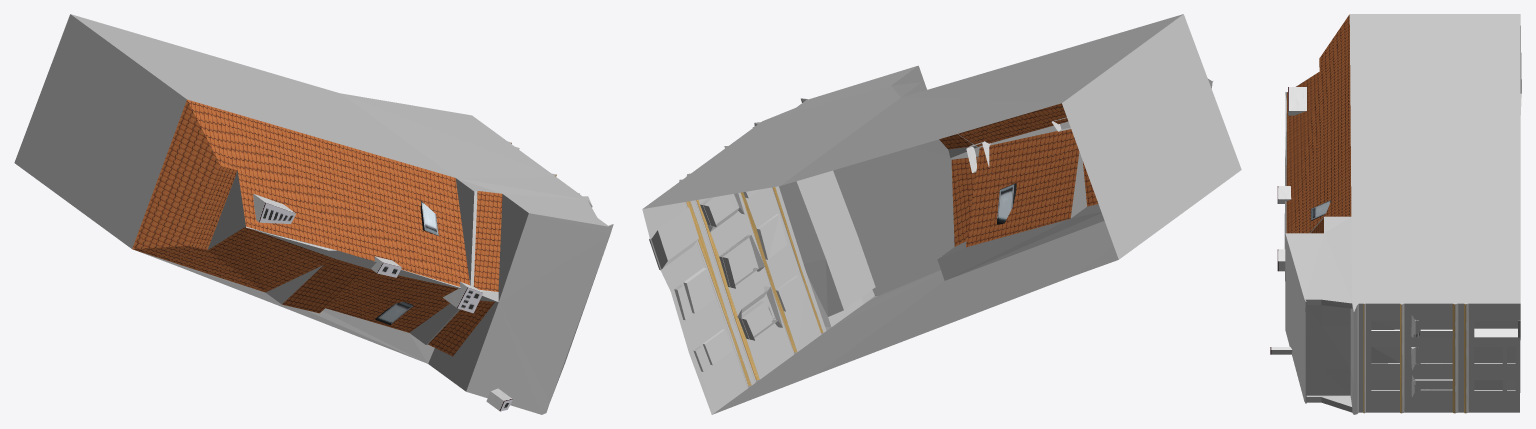
The model's file is Pikk-49-origo.obj.
3 views of the same model, side by side, from view 1: azimuth 30°, elevation 25°; view 2: azimuth 150°, elevation 25°; view 3: azimuth 270°, elevation 25° (orthographic). The views are drawn at different scales.
Visible parts, largest first — view 1: pikk_49; view 2: pikk_49; view 3: pikk_49.
Part boxes in pixels (bbox=[...]): pikk_49: bbox=[14, 14, 613, 414]; pikk_49: bbox=[642, 14, 1241, 414]; pikk_49: bbox=[1270, 14, 1521, 414].
Size of the model in its own units: 26.75 by 21 by 17.16.
